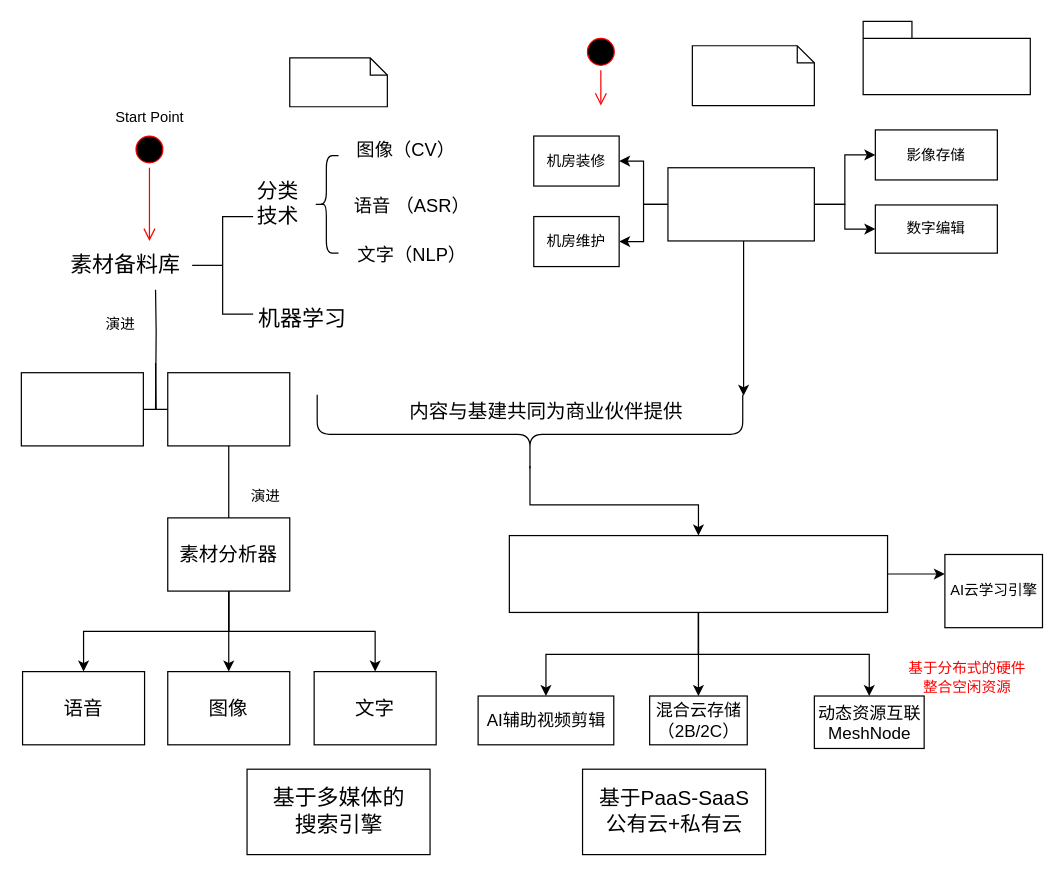
Image size: 1064x876. Some labels were removed from this diagram. The shapes that lost their labels are listed below. From the top down, each one's centre as x and y in pixels, then its label:
At (752,75): "基础设施".
At (946,57): "Zaburo zaburo90@gmail.com".
At (338,82): "内容".
At (740,204): "云机房".
At (81,408): "素材智能标签".
At (228,408): "素材智能提取/分捡".
At (698,573): "私有云影像剪辑制作工作室套件+海量云存储空间".
